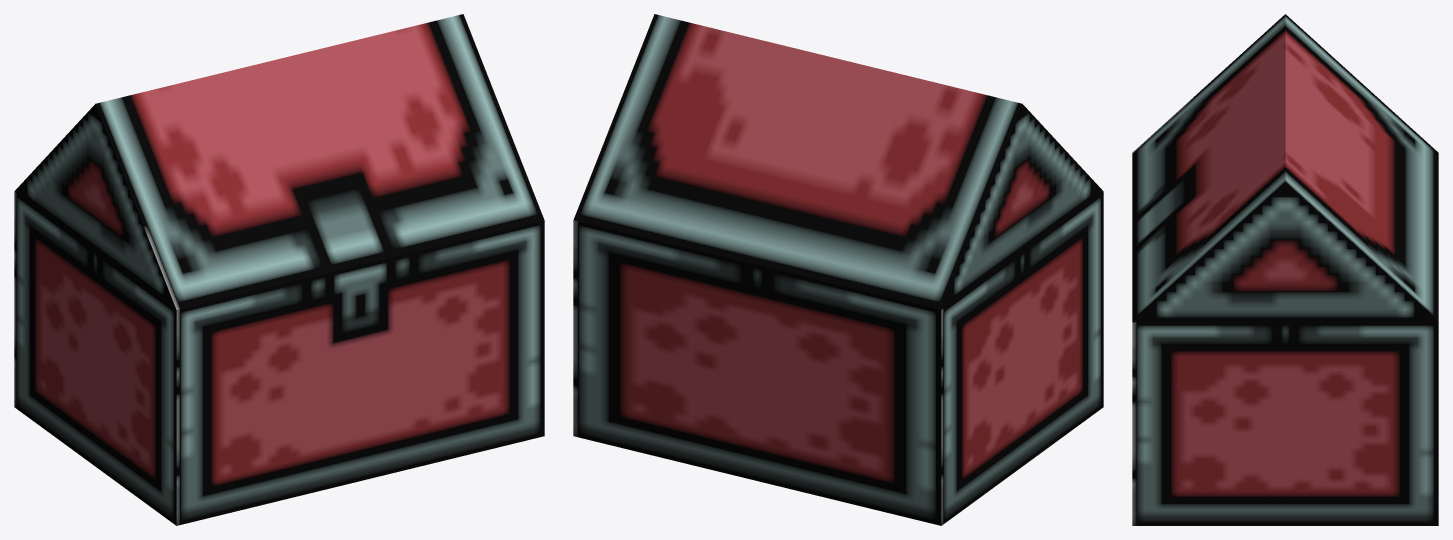
The model's file is deco_cathedral_chestSmallClosed.FBX.
The picture shows the model from 3 angles, left to right: view 1: azimuth 30°, elevation 25°; view 2: azimuth 150°, elevation 25°; view 3: azimuth 270°, elevation 25°; orthographic projection. The views are drawn at different scales.
Visible parts, largest first — view 1: deco_cathedral_chestSmallClosed; view 2: deco_cathedral_chestSmallClosed; view 3: deco_cathedral_chestSmallClosed.
Boxes of the visible parts, bbox=[...] form: deco_cathedral_chestSmallClosed: bbox=[14, 14, 544, 525]; deco_cathedral_chestSmallClosed: bbox=[573, 14, 1103, 525]; deco_cathedral_chestSmallClosed: bbox=[1132, 14, 1438, 525].
Bounding box in the file's own units: 1.55 × 1.46 × 1.18.
1 material, 1 textured.
